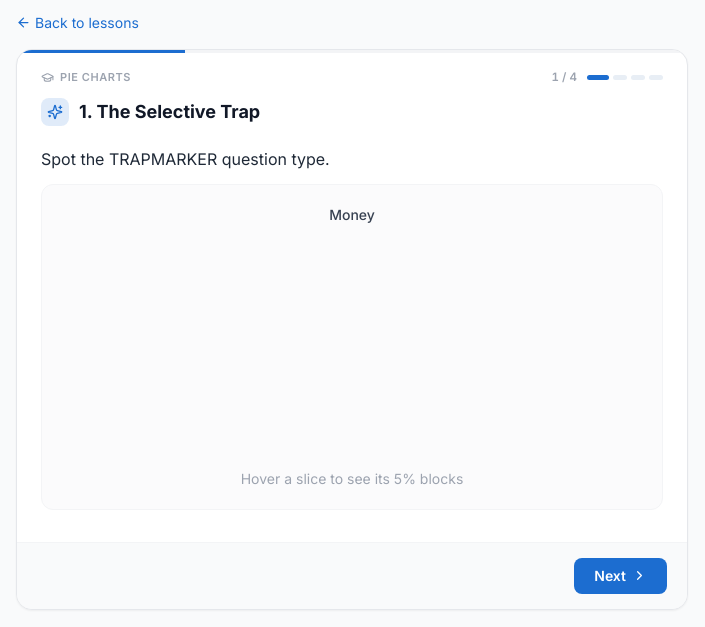
it: segmented lesson player › advances to the next segment on Next
Expected: the text "Spot the TRAPMARKER question type." is shown, x1=41 y1=149 x2=330 y2=169
Click the button "Next" at point(621, 576), box x1=574 y1=558 x2=667 y2=594
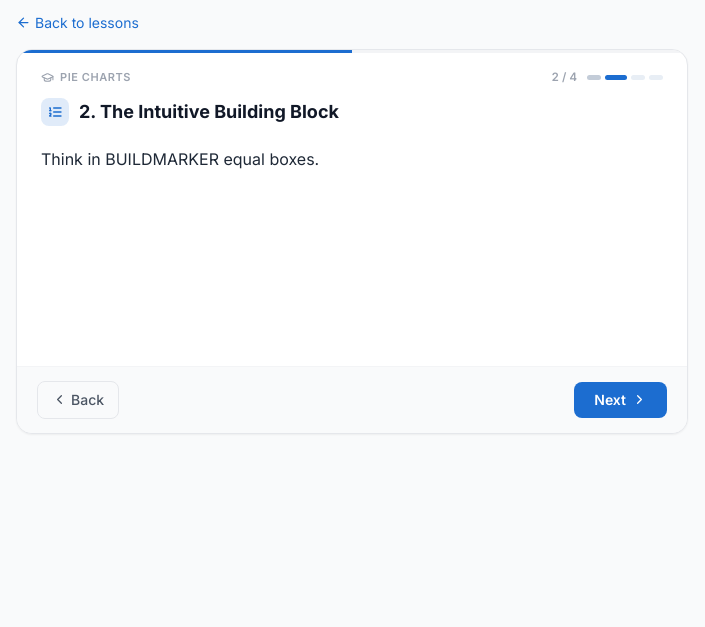
Expected: the text "Think in BUILDMARKER equal boxes." is shown, x1=41 y1=149 x2=319 y2=169
Expected: the text "TRAPMARKER" is gone
